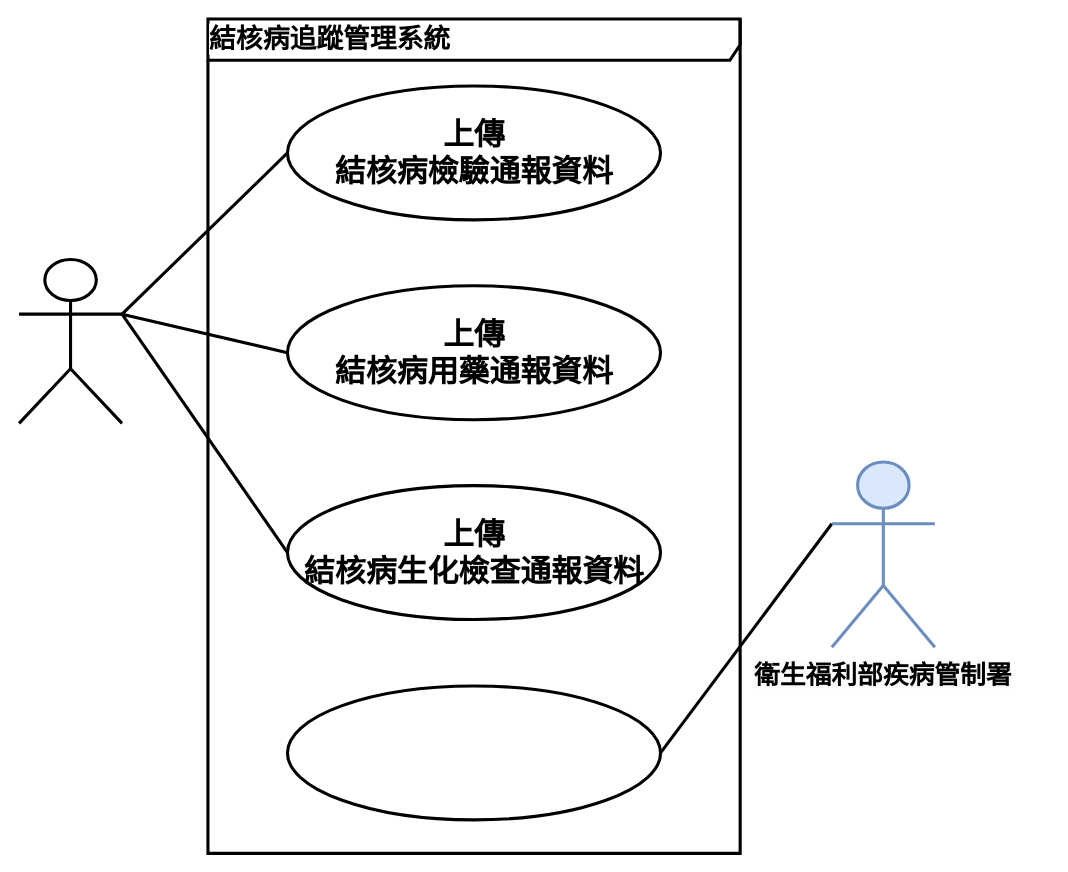
This 1068x872 diagram has some shape labels left out. Each missing label, with the centre of its shape:
"回報資料上傳結果" goes at pixel 473 752.
"醫療院所" goes at pixel 70 341.
